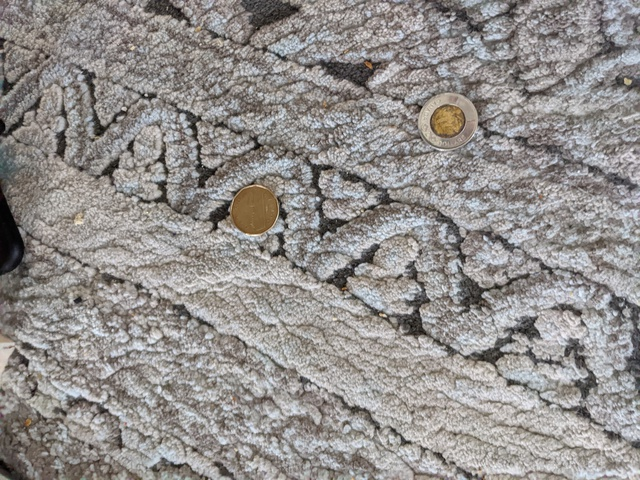loonie: (220, 185, 283, 239)
twonie: (411, 84, 488, 148)
